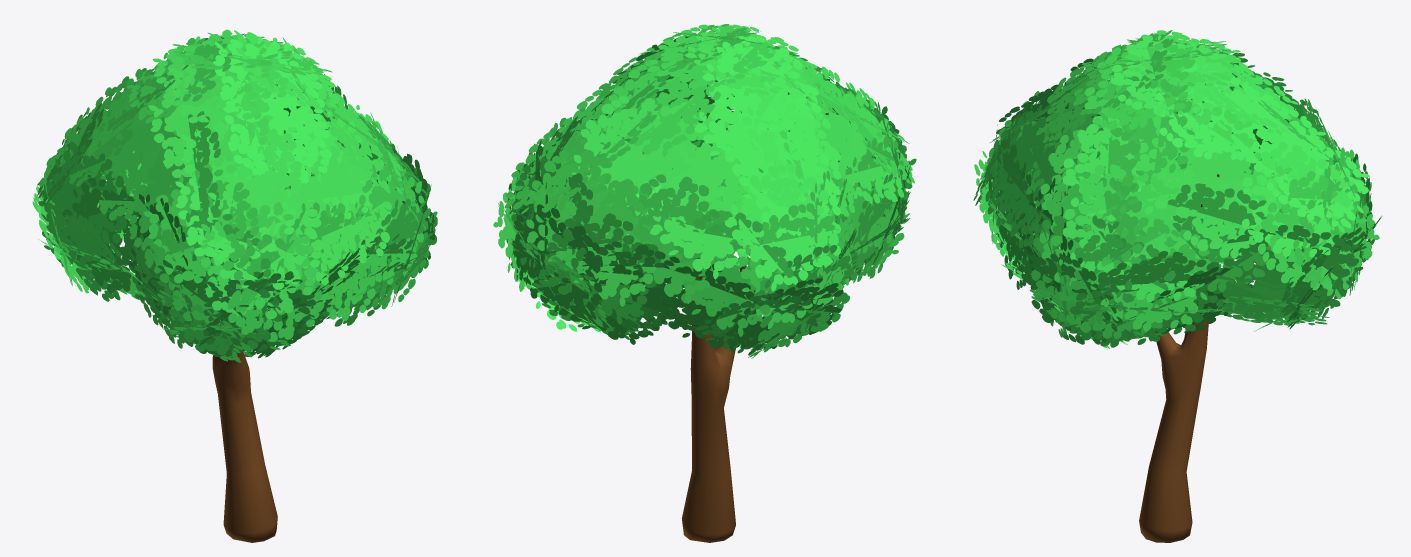
File: Tree2Foliage.fbx
3 renders of one model, left to right at view 1: azimuth 30°, elevation 25°; view 2: azimuth 150°, elevation 25°; view 3: azimuth 270°, elevation 25°, orthographic. The views are drawn at different scales.
Visible parts, largest first — view 1: Uncolored_Tree.003; view 2: Uncolored_Tree.003; view 3: Uncolored_Tree.003.
Boxes of the visible parts, x1,y1,x2,y2 form: Uncolored_Tree.003: (32, 29, 437, 542); Uncolored_Tree.003: (493, 24, 916, 542); Uncolored_Tree.003: (973, 30, 1381, 542).
Size of the model in its own units: 349 by 438 by 311.
